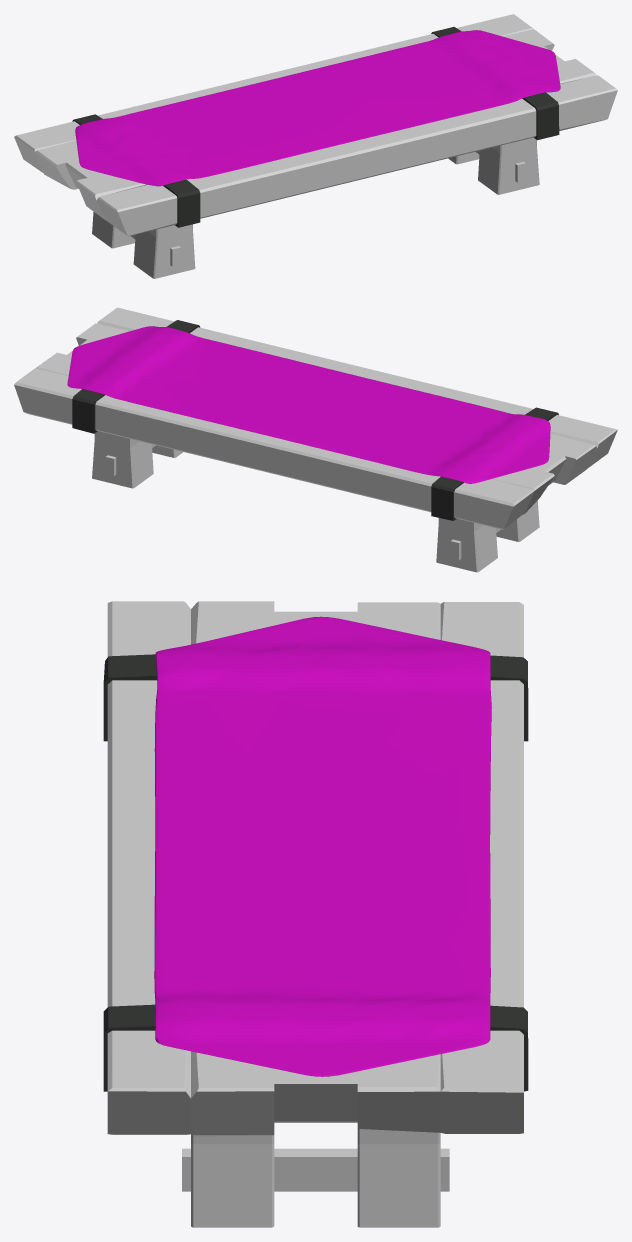
The picture shows the model from 3 angles, top to bottom: view 1: azimuth 30°, elevation 25°; view 2: azimuth 150°, elevation 25°; view 3: azimuth 270°, elevation 25°; orthographic projection. The views are drawn at different scales.
Parts seen in each view (by area): view 1: Table, cloth; view 2: Table, cloth; view 3: cloth, Table.
Boxes of the visible parts, x1=… form: Table: x1=14, y1=14, x2=617, y2=278; cloth: x1=75, y1=30, x2=560, y2=186; Table: x1=14, y1=307, x2=617, y2=572; cloth: x1=67, y1=326, x2=550, y2=483; cloth: x1=154, y1=616, x2=491, y2=1076; Table: x1=103, y1=601, x2=528, y2=1227.
Size of the model in its own units: 867 by 168 by 318.
